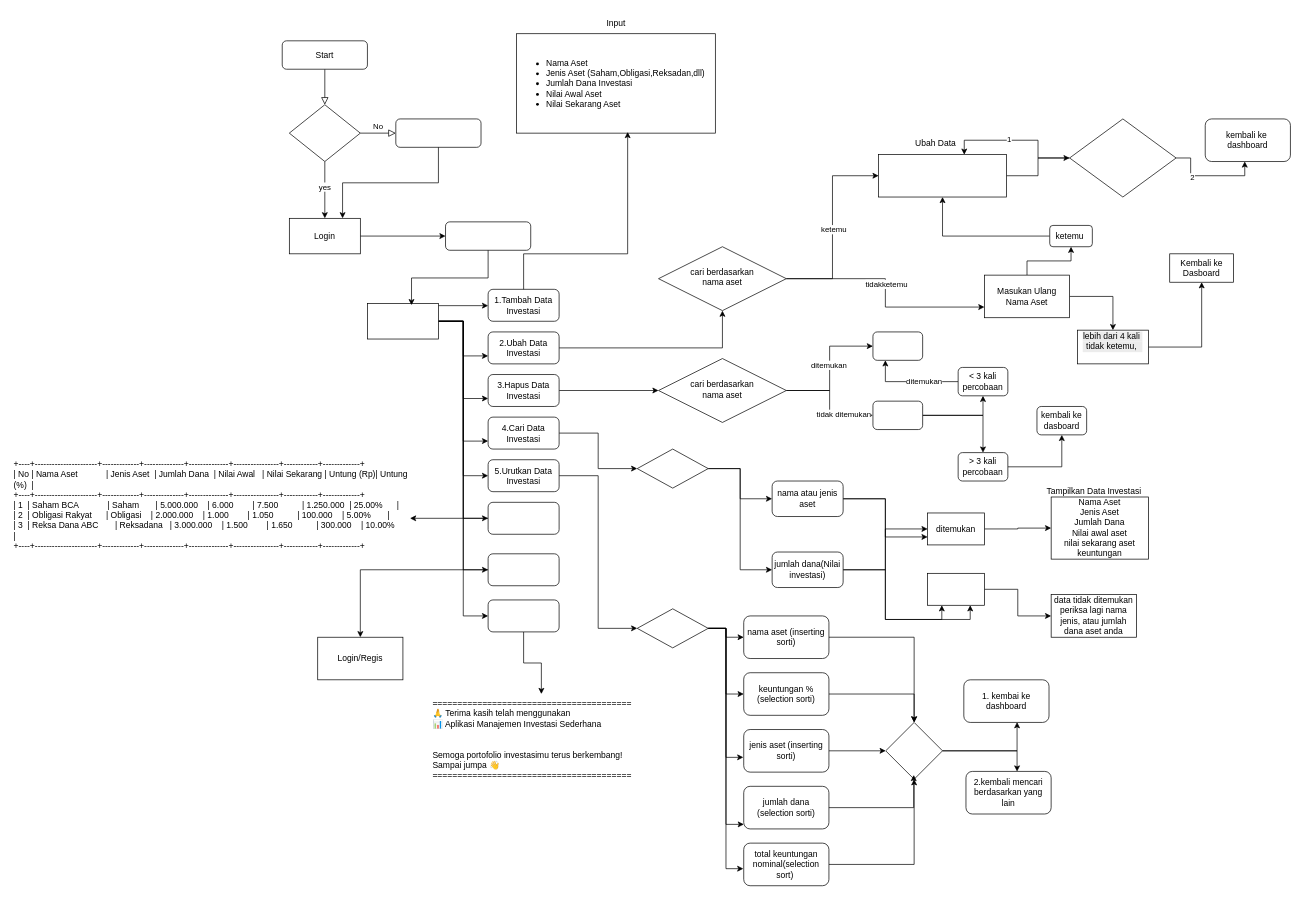
Image size: 1303x898. Some labels were removed from this diagram. Here are the shapes that lost their labels. From the top down, the box of each, then its label:
(289, 104, 360, 162): Sudah punya akun?
(395, 118, 481, 147): Registrasi
(878, 154, 1006, 197): Dana Investasi jenis Aset Nilai sekarang aset
(1069, 118, 1176, 197): ubah data yang lain kembali ke dashboard
(445, 221, 531, 250): Welcome to Dashboard
(367, 303, 438, 339): Dasborad Option
(872, 331, 923, 360): Hapus data
(872, 400, 923, 430): masukan ulang
(637, 448, 708, 488): cari berdasarkan
(487, 502, 559, 534): 6.Tampilkan Laporan Data Investasi
(487, 553, 559, 586): 7.Keluar Dashborad/ logout
(927, 573, 984, 605): tidak
(487, 599, 559, 632): 8.keluar program
(637, 608, 708, 648): urutkan berdasarkan
(885, 722, 943, 779): 1 atau 2
